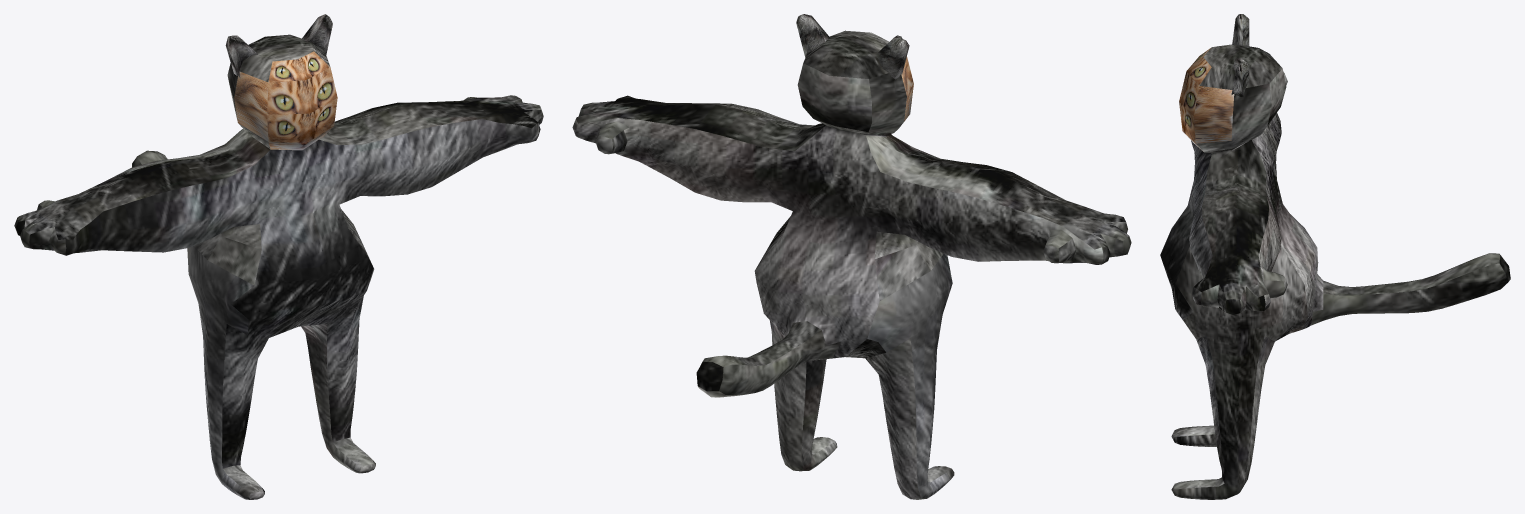
Rendered from enemypost.gltf.
The picture shows the model from 3 angles, left to right: view 1: azimuth 30°, elevation 25°; view 2: azimuth 150°, elevation 25°; view 3: azimuth 270°, elevation 25°; orthographic projection. The views are drawn at different scales.
Visible parts, largest first — view 1: Plane, Cube.001, Cube; view 2: Plane, Cube, Cube.001; view 3: Plane, Cube.001, Cube.
Boxes of the visible parts, x1,y1,x2,y2 form: Plane: (14,34,543,499); Cube.001: (302,14,332,54); Cube: (225,35,257,77); Plane: (572,30,1131,499); Cube: (876,35,909,79); Cube.001: (796,14,829,57); Plane: (1160,44,1510,499); Cube.001: (1231,58,1249,96); Cube: (1232,14,1249,46).
Size of the model in its own units: 3.81 by 3.09 by 2.26.
2 materials, 2 textured.
